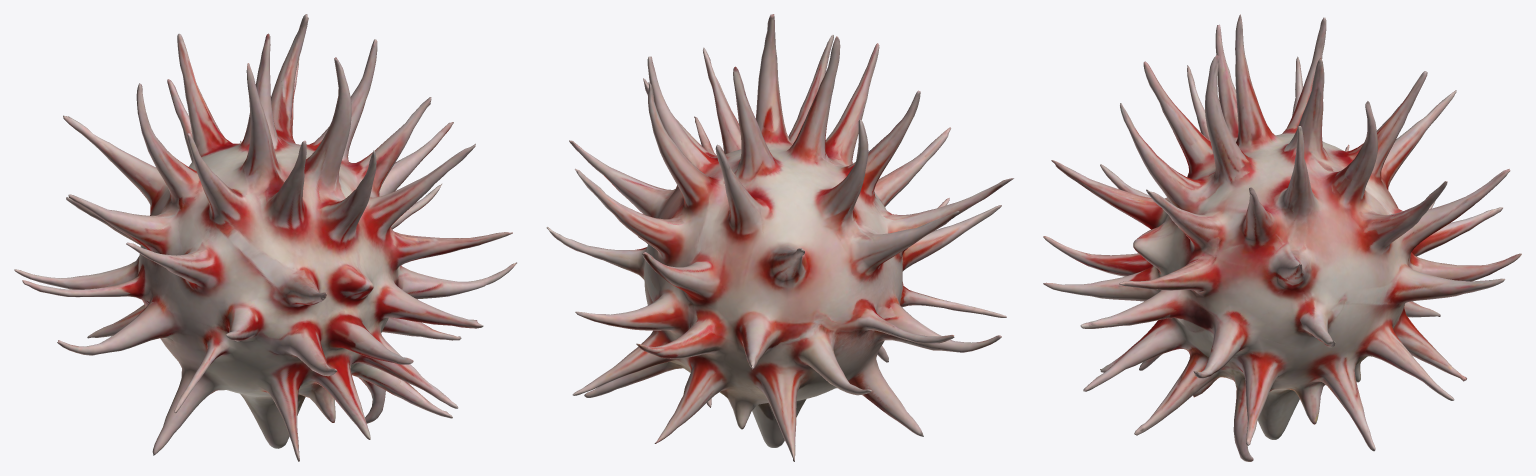
Rendered from Spiked_Sphere_0110003610_texture.glb.
3 renders of one model, left to right at view 1: azimuth 30°, elevation 25°; view 2: azimuth 150°, elevation 25°; view 3: azimuth 270°, elevation 25°, orthographic.
Size of the model in its own units: 2.01 by 1.85 by 1.99.
Materials: 1 (1 with a texture image).
